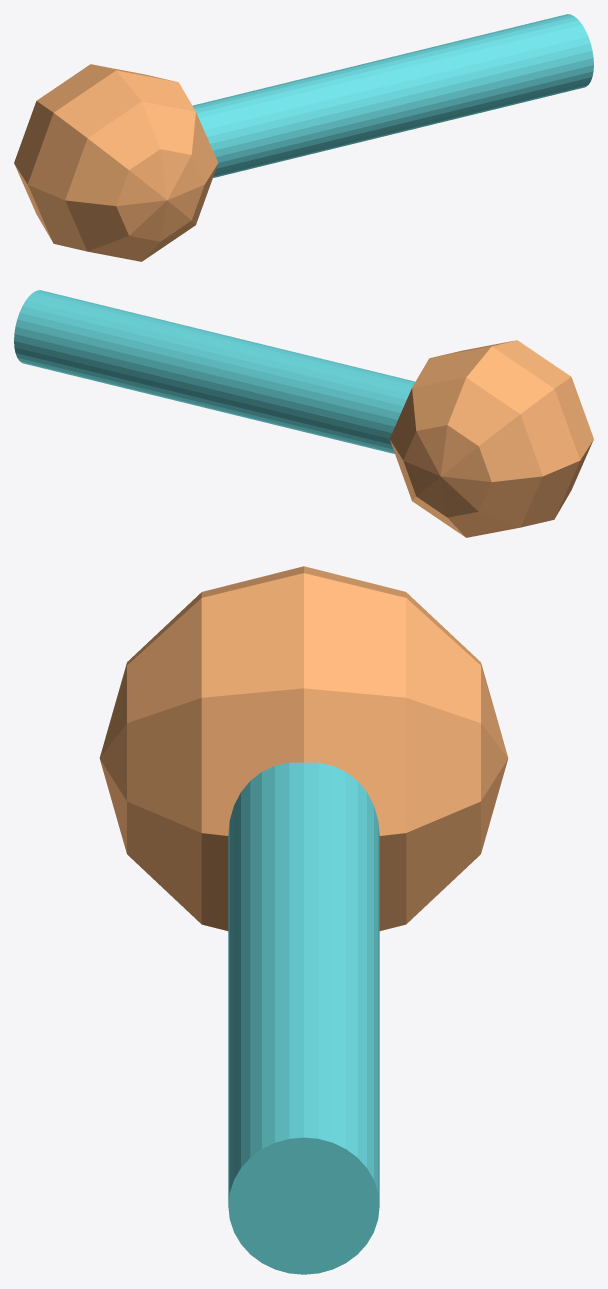
File: hand_arm_0.fbx
The picture shows the model from 3 angles, top to bottom: view 1: azimuth 30°, elevation 25°; view 2: azimuth 150°, elevation 25°; view 3: azimuth 270°, elevation 25°; orthographic projection. The views are drawn at different scales.
Parts seen in each view (by area): view 1: Cylinder, Sphere; view 2: Cylinder, Sphere; view 3: Sphere, Cylinder.
Part boxes in pixels (x1,y1,x2,y2): Cylinder: [192, 14, 593, 177]; Sphere: [14, 64, 218, 261]; Cylinder: [14, 290, 415, 453]; Sphere: [389, 340, 593, 537]; Sphere: [99, 566, 508, 930]; Cylinder: [228, 762, 379, 1274].
Bounding box in the file's own units: 835 × 270 × 270.
